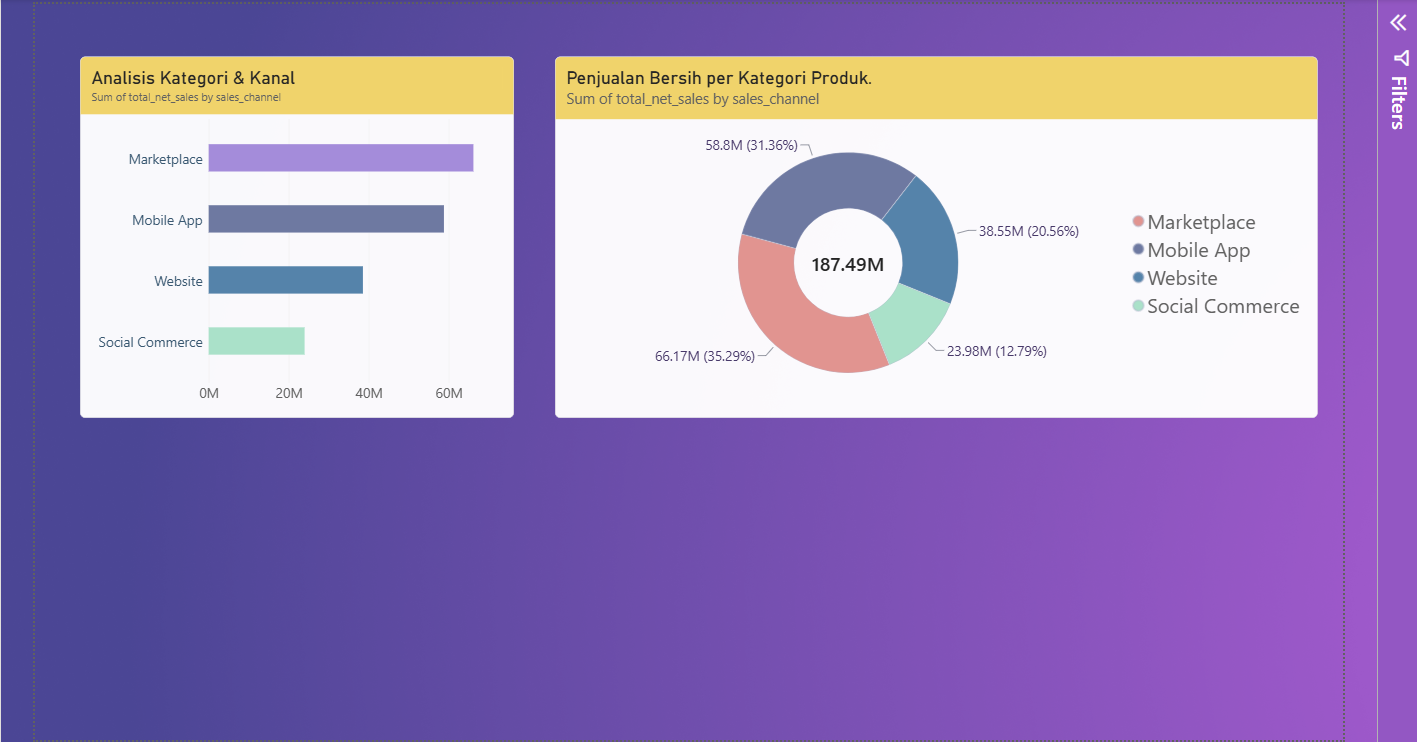

This screenshot's page, from the dashboard's own definition file:
{"tool":"powerbi","page":{"name":"Analisis Kategori & Channel","canvas":[1920,1080],"ordinal":1},"visuals":[{"type":"clusteredBarChart","title":"Analisis Kategori & Kanal","fields":{"Category":["warehouse   main   mart_sales_analysis.sales_channel"],"Y":["Sum(warehouse   main   mart_sales_analysis.total_net_sales)"]},"box":[65.1,77.8,637,530.2],"z":0},{"type":"donutChart","title":"Penjualan Bersih per Kategori Produk.","fields":{"Category":["warehouse   main   mart_sales_analysis.sales_channel"],"Y":["Sum(warehouse   main   mart_sales_analysis.total_net_sales)"]},"box":[763,77,1118.9,530.1],"z":1}]}

Visuals, with their boxes in screenshot pixels (x1, y1, x2, y2):
"Analisis Kategori & Kanal" clusteredBarChart: detection(77, 56, 509, 415)
"Penjualan Bersih per Kategori Produk." donutChart: detection(550, 56, 1308, 415)
